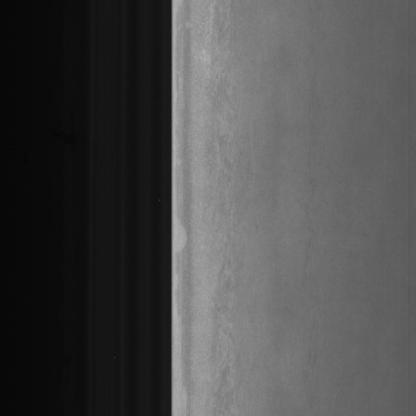silk_spot: (208, 51, 258, 416)
